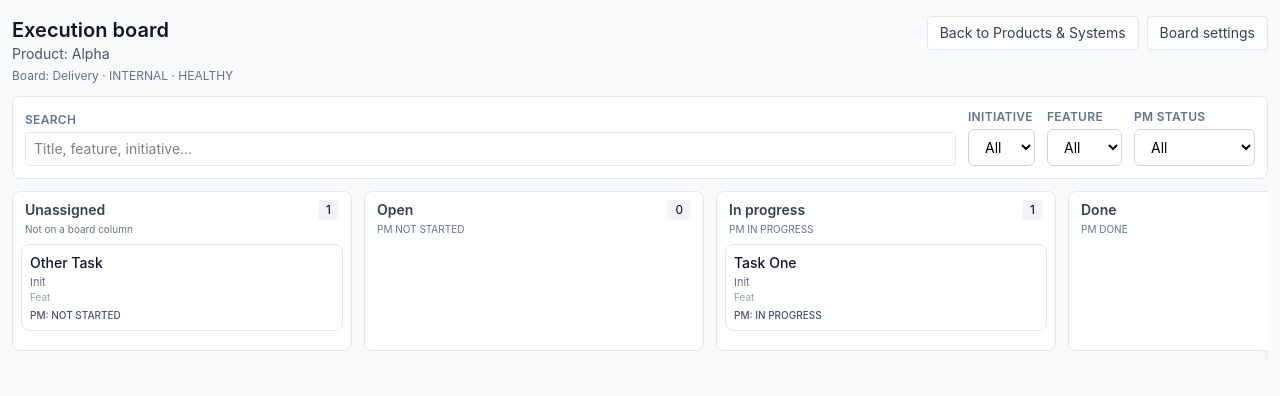
Test: ExecutionBoardPage › filters cards by PM status
The width and height of the screenshot is (1280, 396).
expect the text "Task One" is shown: met, box [734,254,796,271]
Select "In progress" in the dropdown below "PM status" at (1194, 148), box [1134,129,1255,166]
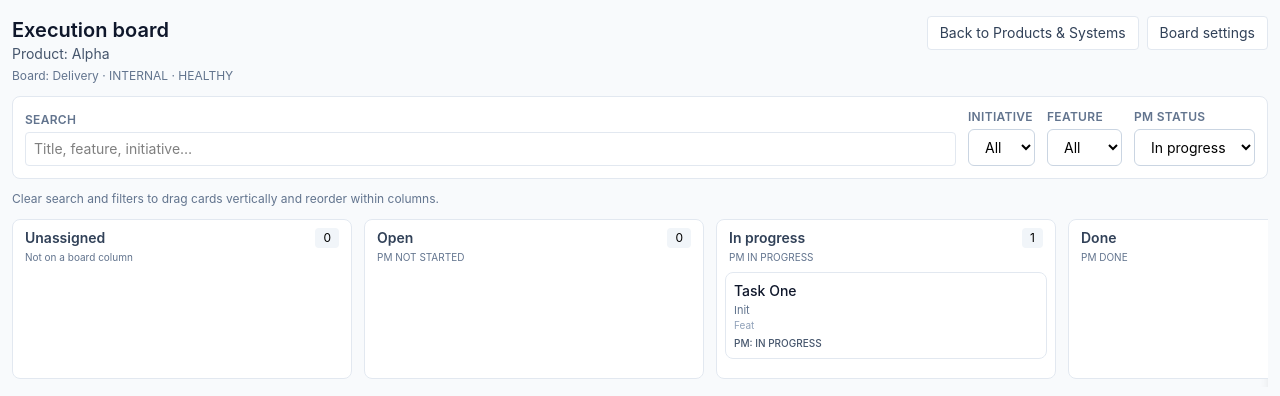
expect the text "Task One" is shown: met, box [734,282,796,299]
expect the link "Other Task" is gone: met
